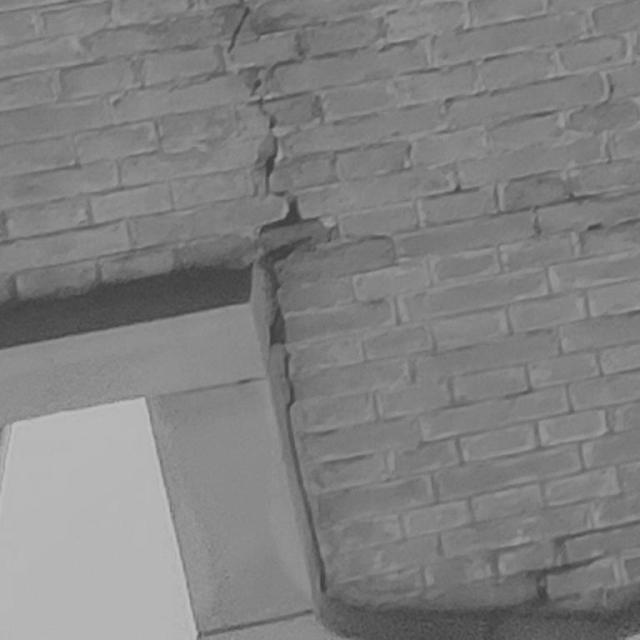crack: (227, 1, 336, 592), (514, 554, 605, 610)
